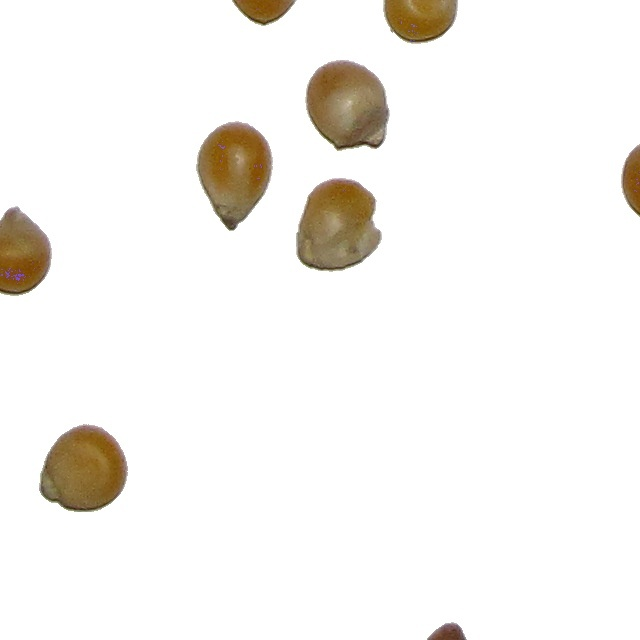buckwheat: (421, 621, 470, 640)
mais: (195, 120, 274, 232), (295, 177, 383, 273), (38, 423, 129, 513), (304, 59, 391, 152), (620, 137, 640, 224)
